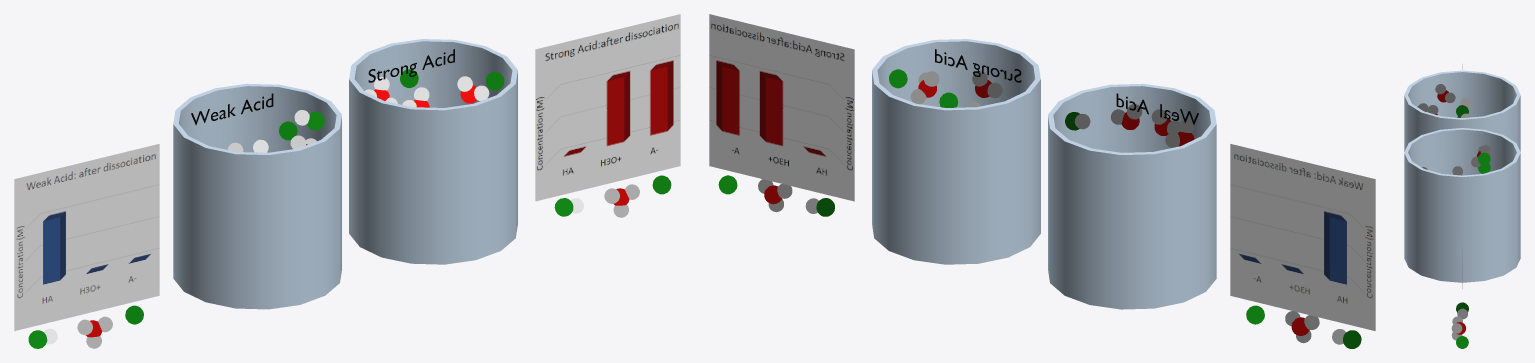
Rendered from weak_vs_strong_acid.glb.
3 renders of one model, left to right at view 1: azimuth 30°, elevation 25°; view 2: azimuth 150°, elevation 25°; view 3: azimuth 270°, elevation 25°, orthographic. The views are drawn at different scales.
Parts seen in each view (by area): view 1: Beaker.001_14, Beaker_2, Plane.001_7, Plane_19, H3O+_4, H3O+.003_5, H3O+.002_17, A-.001_0; view 2: Beaker_2, Beaker.001_14, Plane.001_7, Plane_19, Water.001_20, H3O+_4, H3O+.003_5, H3O+.002_17, Water_10, A-.001_0; view 3: Beaker_2, Beaker.001_14, Water.001_20, H3O+_4, H3O+.003_5, HA.001_15, A-.001_0, HA.002_6, A-.003_1.
Part boxes in pixels (x1,y1,x2,y2): Beaker.001_14: (173, 83, 341, 309); Beaker_2: (349, 39, 517, 264); Plane.001_7: (535, 14, 680, 201); Plane_19: (14, 144, 159, 330); H3O+_4: (364, 76, 489, 107); H3O+.003_5: (604, 184, 639, 217); H3O+.002_17: (77, 316, 112, 348); A-.001_0: (400, 69, 504, 90); Beaker_2: (872, 39, 1040, 264); Beaker.001_14: (1048, 83, 1216, 309); Plane.001_7: (709, 14, 854, 201); Plane_19: (1230, 144, 1375, 330); Water.001_20: (1110, 104, 1194, 147); H3O+_4: (910, 71, 980, 107); H3O+.003_5: (758, 179, 792, 212); H3O+.002_17: (1285, 311, 1319, 343); Water_10: (972, 71, 1002, 98); A-.001_0: (889, 69, 958, 107); Beaker_2: (1404, 128, 1520, 282); Beaker.001_14: (1404, 70, 1520, 151); Water.001_20: (1417, 84, 1455, 115); H3O+_4: (1452, 145, 1490, 175); H3O+.003_5: (1451, 316, 1465, 340); HA.001_15: (1456, 97, 1471, 117); A-.001_0: (1478, 152, 1490, 173); HA.002_6: (1456, 302, 1468, 319); A-.003_1: (1456, 336, 1468, 348).
Size of the model in its own units: 18.08 by 5.38 by 4.
7 materials, 2 textured.
